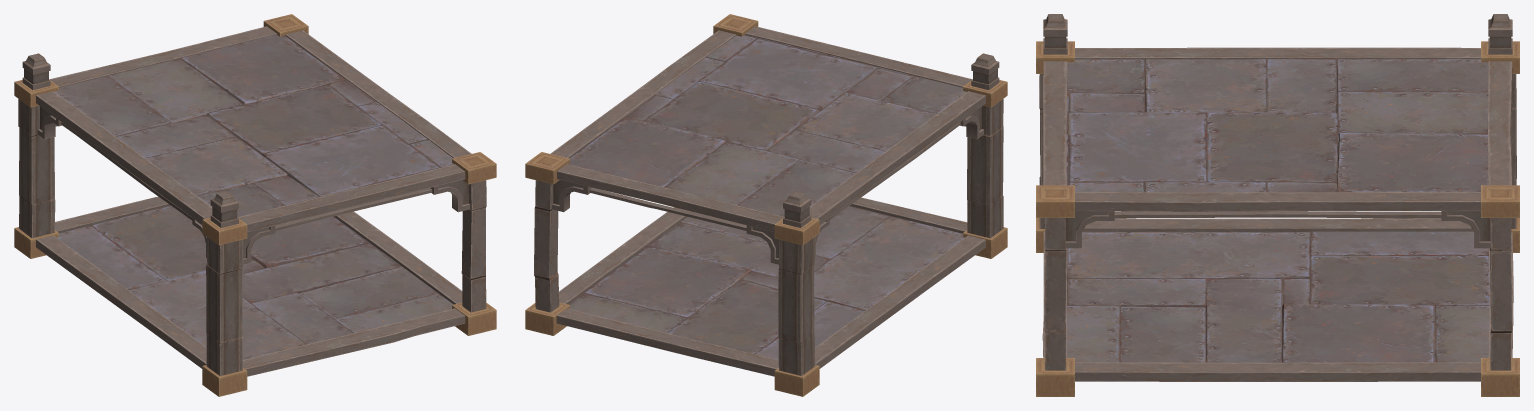
File: Homeworld_Exterior_Fd_Table_Prop_JyJiazi_01_Lod0.fbx
3 renders of one model, left to right at view 1: azimuth 30°, elevation 25°; view 2: azimuth 150°, elevation 25°; view 3: azimuth 270°, elevation 25°, orthographic. The views are drawn at different scales.
Visible parts, largest first — view 1: Area_Fd_Prop_SXGC_Jiazi_01_Lod0; view 2: Area_Fd_Prop_SXGC_Jiazi_01_Lod0; view 3: Area_Fd_Prop_SXGC_Jiazi_01_Lod0.
Boxes of the visible parts, bbox=[...] form: Area_Fd_Prop_SXGC_Jiazi_01_Lod0: bbox=[14, 14, 496, 396]; Area_Fd_Prop_SXGC_Jiazi_01_Lod0: bbox=[525, 14, 1007, 396]; Area_Fd_Prop_SXGC_Jiazi_01_Lod0: bbox=[1036, 14, 1519, 396].
Size of the model in its own units: 4.28 by 2.84 by 5.47.
3 materials, 3 textured.
